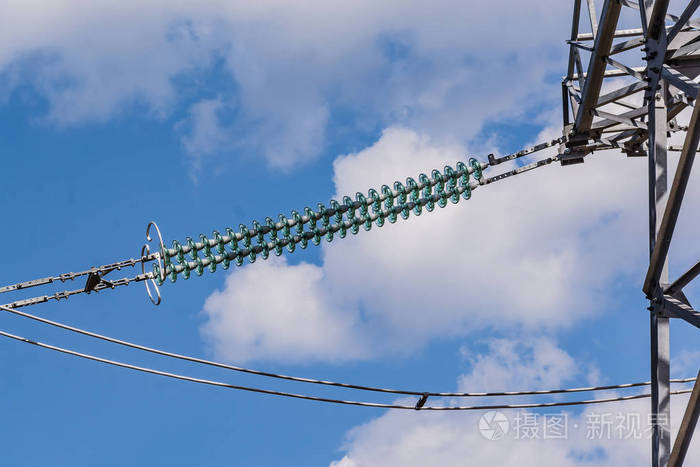insulator: (164, 159, 483, 285)
